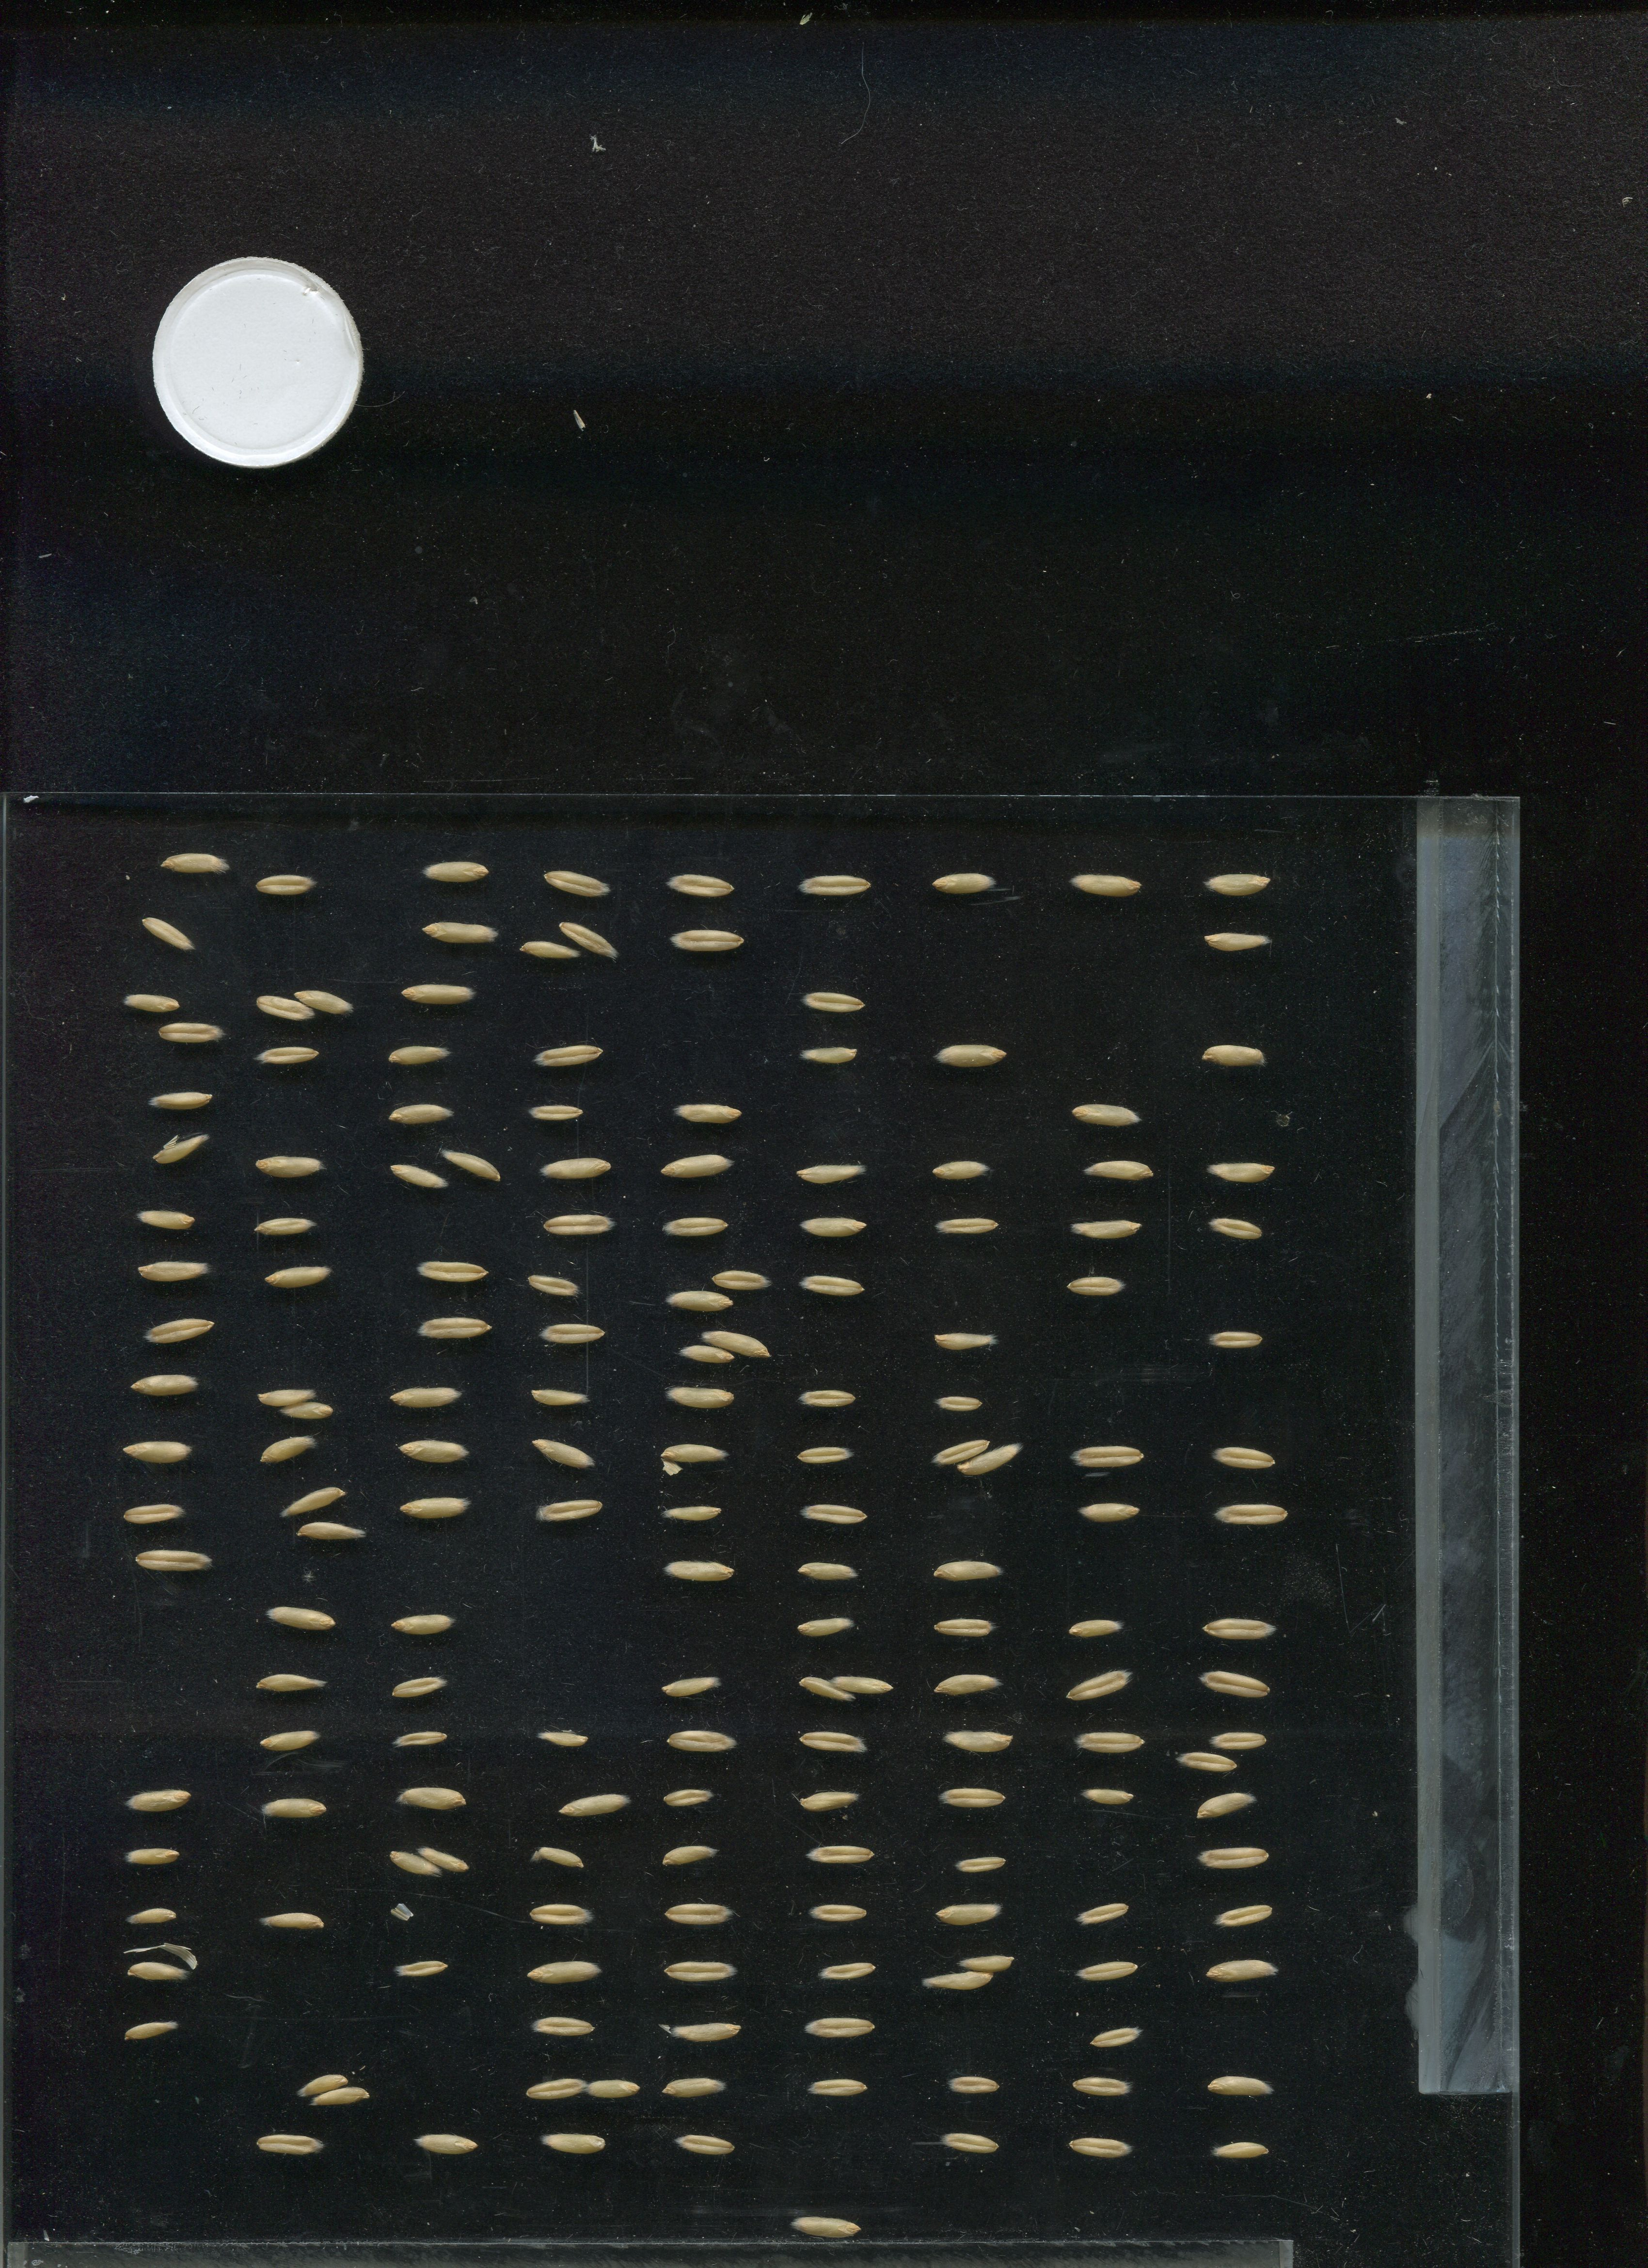NakedGrain: (555, 912, 618, 961), (694, 1326, 778, 1361), (953, 1439, 1030, 1476), (1197, 1668, 1276, 1703), (1192, 1842, 1271, 1877), (1199, 2129, 1278, 2164), (789, 2208, 868, 2243), (928, 1898, 1007, 1933), (799, 1840, 879, 1875), (798, 1900, 877, 1935), (806, 1953, 886, 1988), (662, 2127, 741, 2162), (658, 1898, 738, 1933), (653, 2067, 732, 2102), (523, 1898, 602, 1933), (523, 1956, 602, 1992), (519, 2011, 599, 2046), (532, 2125, 611, 2161), (407, 2125, 486, 2161), (278, 1483, 349, 1521), (1060, 1669, 1137, 1705), (1190, 1789, 1268, 1824), (1204, 1956, 1282, 1992), (1060, 2129, 1137, 2164), (923, 2125, 1000, 2161), (931, 2067, 1009, 2102), (1065, 2067, 1143, 2102), (1070, 2016, 1148, 2051), (1063, 1896, 1141, 1932), (940, 1849, 1018, 1884), (801, 2009, 879, 2044), (798, 2071, 875, 2106), (658, 1953, 736, 1988), (662, 2014, 739, 2050), (150, 1127, 217, 1167), (1199, 1900, 1278, 1933), (1197, 2073, 1276, 2106), (1069, 1955, 1148, 1988), (646, 1838, 725, 1872), (528, 1437, 602, 1472), (384, 1844, 445, 1886), (139, 916, 202, 956), (438, 1145, 507, 1182), (257, 1428, 326, 1465), (919, 1967, 1002, 1997), (539, 868, 613, 902), (386, 1159, 454, 1194), (419, 919, 500, 947), (674, 1336, 741, 1370), (291, 988, 361, 1020), (396, 983, 477, 1009), (791, 990, 872, 1016), (417, 858, 493, 886), (660, 872, 736, 900), (794, 872, 870, 900), (926, 870, 1002, 898), (1065, 870, 1141, 898), (153, 1020, 229, 1048), (248, 1041, 324, 1069), (933, 1042, 1009, 1071), (514, 1099, 590, 1127), (386, 1101, 461, 1129), (141, 1083, 217, 1111), (539, 1155, 614, 1183), (924, 1157, 1000, 1185), (127, 1206, 202, 1234), (519, 1273, 595, 1301), (664, 1285, 739, 1314), (120, 1439, 195, 1467), (416, 1315, 491, 1344), (535, 1321, 611, 1349), (518, 1384, 593, 1412), (394, 1439, 470, 1467), (294, 1518, 370, 1546), (530, 1495, 606, 1523), (655, 1440, 731, 1469), (1211, 1498, 1287, 1527), (1208, 1442, 1284, 1470), (1067, 1442, 1143, 1470), (658, 1557, 734, 1585), (931, 1557, 1007, 1585), (931, 1671, 1007, 1699), (380, 1673, 456, 1701), (382, 1724, 458, 1752), (1067, 1780, 1143, 1808), (651, 1784, 727, 1812), (555, 1793, 630, 1821), (252, 1794, 327, 1822), (118, 1787, 194, 1815), (382, 1953, 458, 1981), (111, 1838, 187, 1867), (111, 1902, 187, 1930), (118, 1956, 194, 1984), (111, 2016, 187, 2044), (519, 2073, 590, 2102), (250, 872, 324, 900), (1199, 868, 1273, 896), (789, 1042, 863, 1071), (1196, 1042, 1269, 1071), (660, 1152, 734, 1180), (794, 1159, 868, 1187), (1204, 1159, 1278, 1187), (1201, 1215, 1275, 1243), (1070, 1215, 1144, 1243), (926, 1211, 1000, 1240), (657, 1215, 731, 1243), (539, 1211, 613, 1240), (248, 1211, 322, 1240), (136, 1257, 210, 1285), (1060, 1273, 1134, 1301), (930, 1328, 1004, 1356), (141, 1317, 215, 1345), (136, 1546, 210, 1574), (926, 1389, 1000, 1417), (667, 1386, 741, 1414), (787, 1613, 861, 1641), (928, 1615, 1002, 1643), (1056, 1613, 1130, 1641), (1201, 1613, 1275, 1641), (798, 1727, 872, 1756), (254, 1907, 327, 1935), (250, 993, 319, 1023), (930, 1437, 998, 1467), (1197, 926, 1273, 953), (380, 1042, 456, 1069), (528, 1042, 604, 1069), (1065, 1102, 1141, 1129), (671, 1101, 747, 1127), (252, 1153, 327, 1180), (1079, 1157, 1155, 1183), (794, 1215, 870, 1241), (412, 1257, 488, 1284), (699, 1268, 775, 1294), (794, 1271, 870, 1298), (1196, 1326, 1271, 1352), (127, 1373, 202, 1400), (118, 1502, 194, 1528), (791, 1386, 866, 1412), (389, 1382, 465, 1409), (396, 1495, 472, 1521), (794, 1500, 870, 1527), (1069, 1498, 1144, 1525), (792, 1560, 868, 1587), (386, 1613, 461, 1639), (651, 1675, 727, 1701), (252, 1727, 327, 1754), (526, 1726, 602, 1752), (940, 1727, 1016, 1754), (1070, 1729, 1146, 1756), (935, 1784, 1011, 1810), (789, 1786, 864, 1812), (391, 1784, 467, 1810), (1169, 1749, 1245, 1775), (158, 852, 232, 879), (667, 928, 741, 954), (259, 1264, 333, 1291), (653, 1497, 727, 1523), (787, 1440, 861, 1467), (266, 1604, 340, 1631), (254, 1669, 327, 1696), (667, 1727, 741, 1754), (1208, 1722, 1269, 1754), (416, 1844, 477, 1875), (254, 2132, 327, 2159), (271, 1395, 340, 1423), (512, 937, 585, 963), (252, 1381, 322, 1407), (310, 2080, 375, 2108), (796, 1675, 856, 1705), (116, 988, 180, 1016), (956, 1946, 1019, 1974), (583, 2074, 644, 2102), (528, 1844, 590, 1872), (292, 2073, 352, 2099), (828, 1675, 896, 1696)
